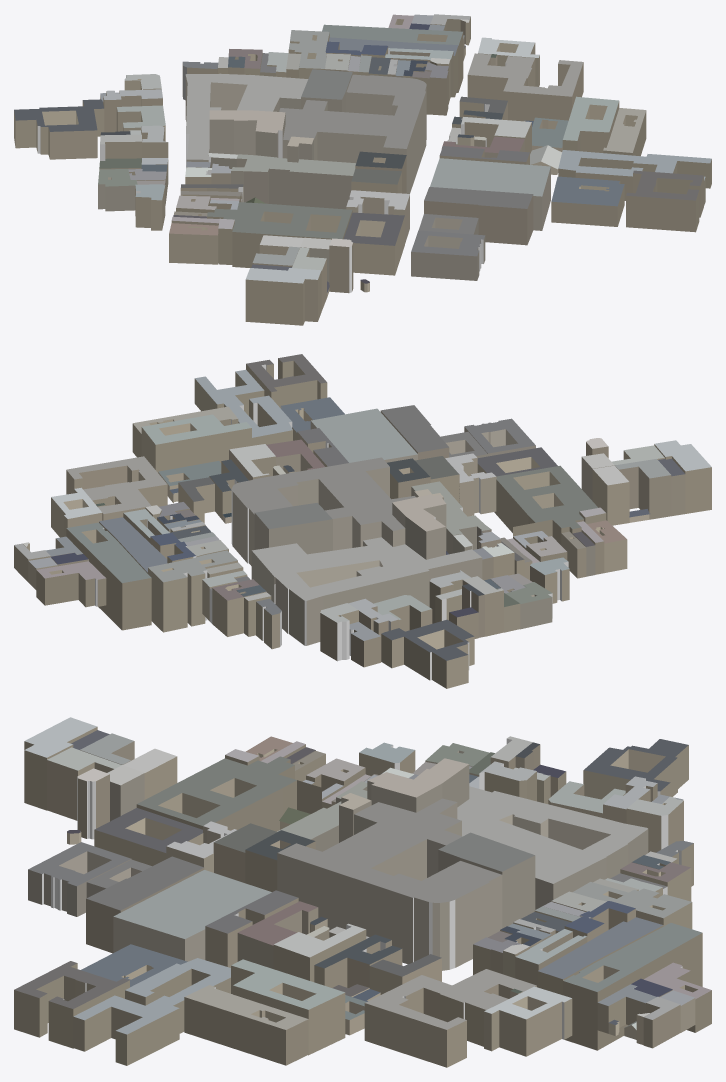
3 views of the same model, one above another, from view 1: azimuth 30°, elevation 25°; view 2: azimuth 150°, elevation 25°; view 3: azimuth 270°, elevation 25° (orthographic). The views are drawn at different scales.
Parts seen in each view (by area): view 1: tuile; view 2: tuile; view 3: tuile.
Part boxes in pixels (<box>): tuile: <box>14,14,711,325</box>; tuile: <box>14,354,711,688</box>; tuile: <box>14,717,711,1067</box>.
Bounding box in the file's own units: 282 × 44.2 × 279.
